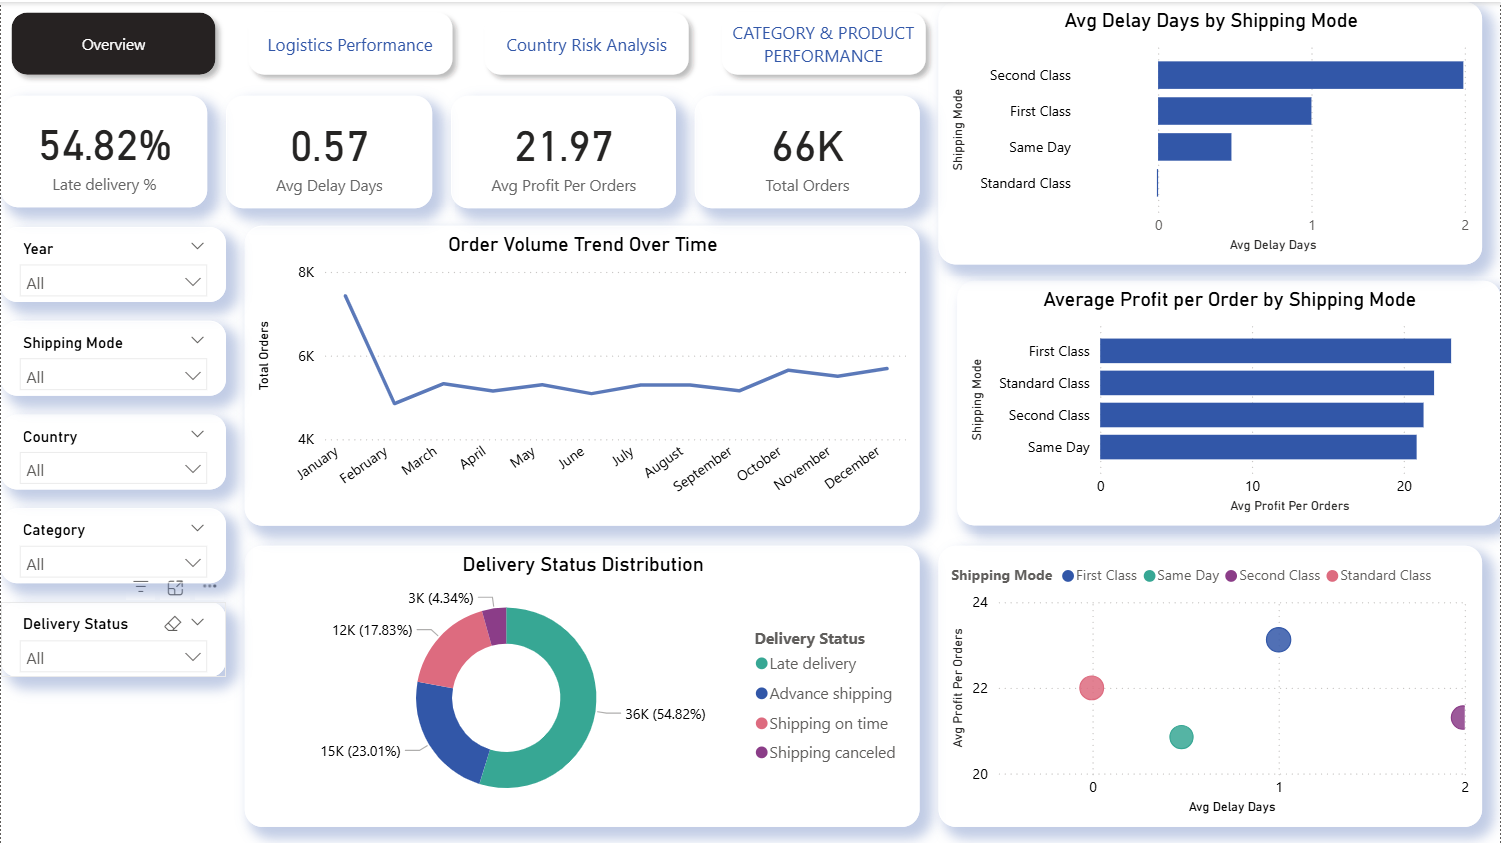

The page's visual inventory and layout, read from the dashboard file:
{"tool":"powerbi","page":{"name":"Overview","canvas":[1280,720],"ordinal":0},"visuals":[{"type":"card","fields":{"Values":["Meassure.Late_delivery %"]},"box":[0,80.5,175.7,95.2],"z":0},{"type":"card","fields":{"Values":["Meassure.Avg_Delay_Days"]},"box":[192,80,176,96],"z":1000},{"type":"card","fields":{"Values":["Meassure.Avg_Profit_Per_Orders"]},"box":[384,80,192,96],"z":2000},{"type":"card","fields":{"Values":["Meassure.Total_Orders"]},"box":[592,80,192,96],"z":3000},{"type":"lineChart","title":"Order Volume Trend Over Time","fields":{"Y":["Meassure.Total_Orders"],"Category":["supplychain_cleaned_data.order date (DateOrders).Variation.Date Hierarchy.Month"]},"box":[207.6,191.1,575.8,256.1],"z":4000},{"type":"donutChart","title":"Delivery Status Distribution","fields":{"Category":["supplychain_cleaned_data.Delivery Status"],"Y":["Meassure.Total_Orders"]},"box":[208,464,576,240],"z":5000},{"type":"barChart","title":"Average Profit per Order by Shipping Mode","fields":{"Category":["supplychain_cleaned_data.Shipping Mode"],"Y":["Meassure.Avg_Profit_Per_Orders"]},"box":[816.6,238.2,463.7,208.9],"z":6000},{"type":"barChart","fields":{"Category":["supplychain_cleaned_data.Shipping Mode"],"Y":["Meassure.Avg_Delay_Days"]},"box":[800,0,464,224],"z":7000},{"type":"slicer","fields":{"Values":["supplychain_cleaned_data.order_year"]},"box":[0,192,192,64],"z":8000},{"type":"slicer","fields":{"Values":["supplychain_cleaned_data.Delivery Status"]},"box":[0,512,192,64],"z":9000},{"type":"slicer","fields":{"Values":["supplychain_cleaned_data.Order Country"]},"box":[0,352,192,64],"z":10000},{"type":"slicer","fields":{"Values":["supplychain_cleaned_data.Shipping Mode"]},"box":[0,272,192,64],"z":11000},{"type":"slicer","fields":{"Values":["supplychain_cleaned_data.Category Name"]},"box":[0,432,192,64],"z":12000},{"type":"scatterChart","fields":{"X":["Meassure.Avg_Delay_Days"],"Y":["Meassure.Avg_Profit_Per_Orders"],"Series":["supplychain_cleaned_data.Shipping Mode"],"Size":["Meassure.Avg_Profit_Per_Orders"]},"box":[800,464,464,240],"z":13000},{"type":"pageNavigator","box":[0,0,800,71.3],"z":14000}]}

Visuals, with their boxes in screenshot pixels (x1, y1, x2, y2), scaled from the page's 1280x720 canvas onto the 1501x843 screenshot:
card - Meassure.Late_delivery %: locate(0, 94, 206, 206)
card - Meassure.Avg_Delay_Days: locate(225, 94, 432, 206)
card - Meassure.Avg_Profit_Per_Orders: locate(450, 94, 675, 206)
card - Meassure.Total_Orders: locate(694, 94, 919, 206)
"Order Volume Trend Over Time" lineChart: locate(243, 224, 919, 524)
"Delivery Status Distribution" donutChart: locate(244, 543, 919, 824)
"Average Profit per Order by Shipping Mode" barChart: locate(958, 279, 1500, 523)
barChart - supplychain_cleaned_data.Shipping Mode x Meassure.Avg_Delay_Days: locate(938, 0, 1482, 262)
slicer - supplychain_cleaned_data.order_year: locate(0, 225, 225, 300)
slicer - supplychain_cleaned_data.Delivery Status: locate(0, 599, 225, 674)
slicer - supplychain_cleaned_data.Order Country: locate(0, 412, 225, 487)
slicer - supplychain_cleaned_data.Shipping Mode: locate(0, 318, 225, 393)
slicer - supplychain_cleaned_data.Category Name: locate(0, 506, 225, 581)
scatterChart - Meassure.Avg_Delay_Days x Meassure.Avg_Profit_Per_Orders: locate(938, 543, 1482, 824)
pageNavigator: locate(0, 0, 938, 83)
